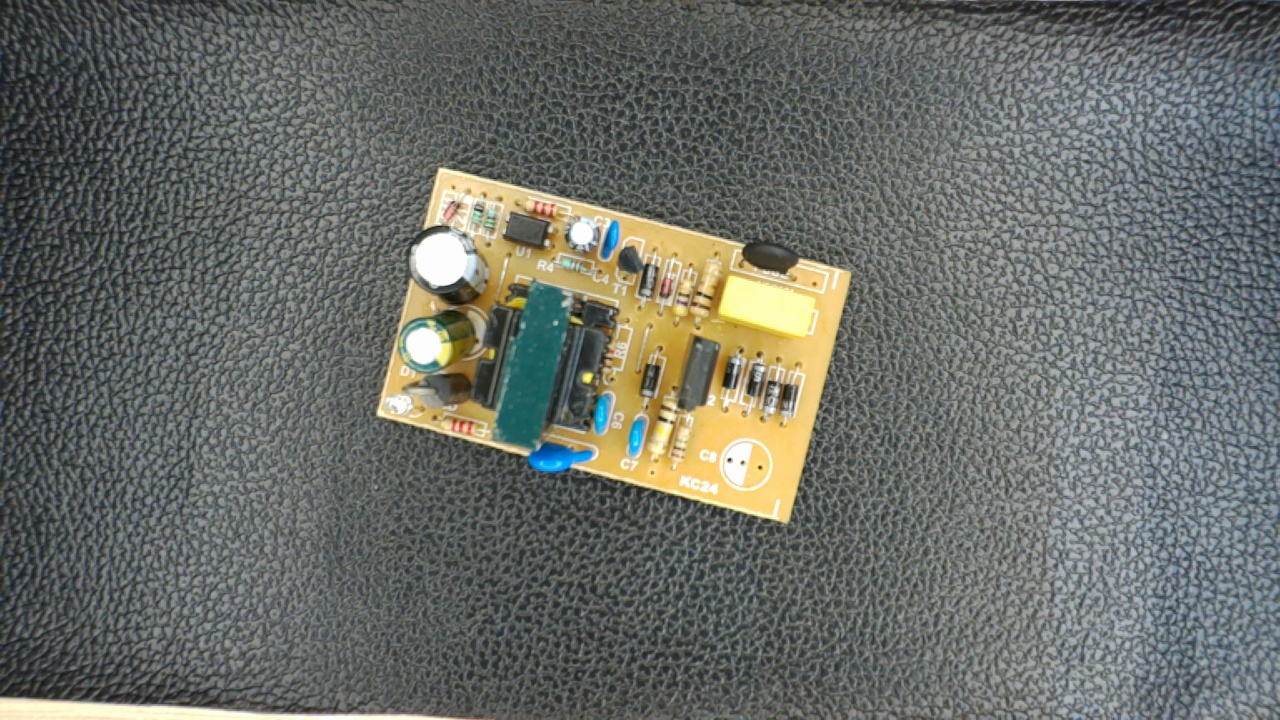fuse: (732, 236, 810, 281)
mov: (522, 434, 602, 474)
optocoupler: (495, 204, 558, 252)
